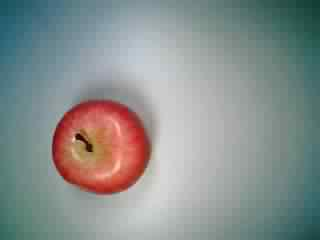apple: (47, 95, 152, 199)
